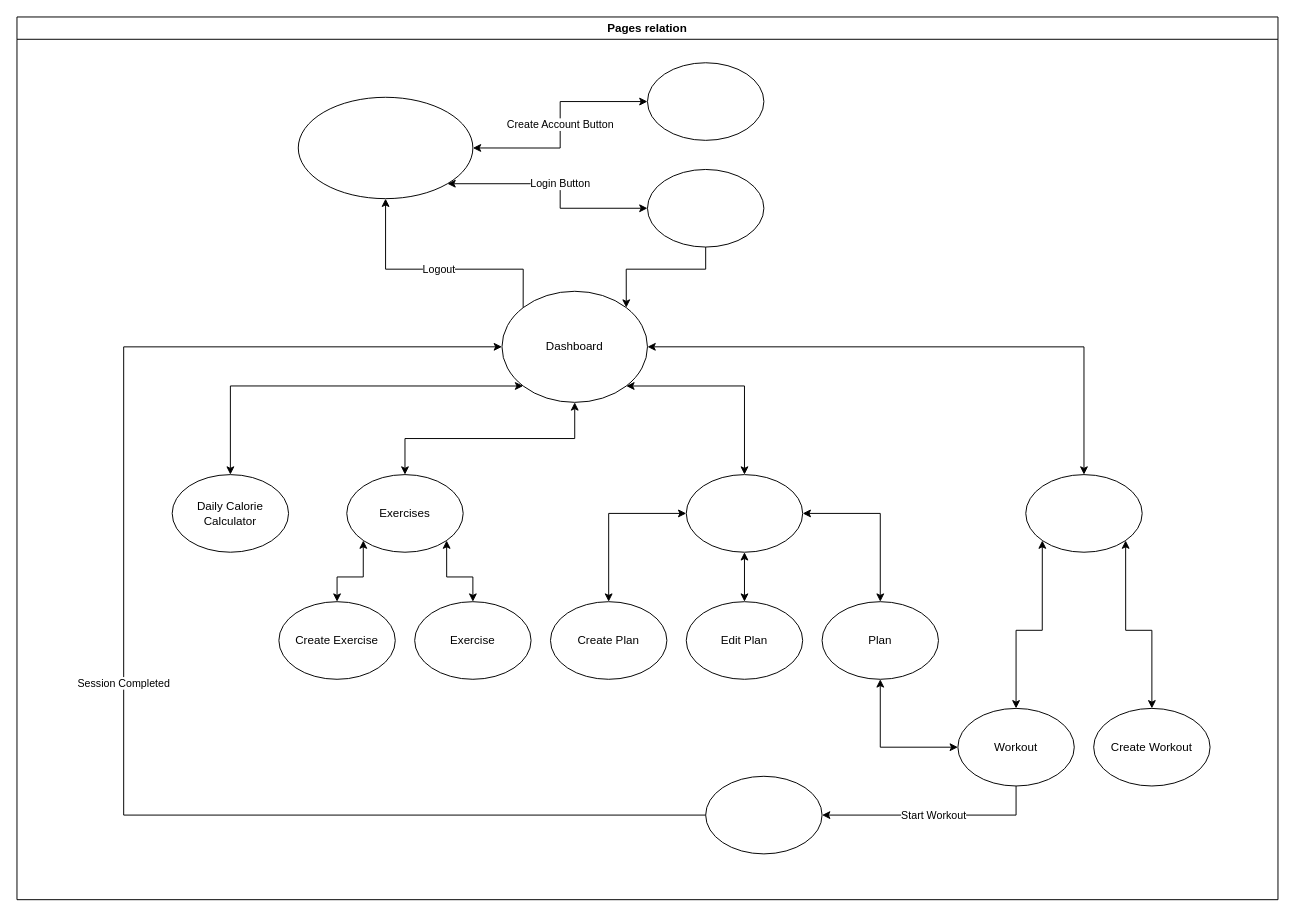
This 1295x917 diagram has some shape labels left out. The centre of each missing label's shape, as x and y in pixels:
"Create Account" goes at (x=705, y=101).
"Home" goes at (x=385, y=147).
"Login" goes at (x=705, y=207).
"Plans" goes at (x=744, y=513).
"Workout Session" goes at (x=763, y=814).
"Workouts" goes at (x=1083, y=513).
